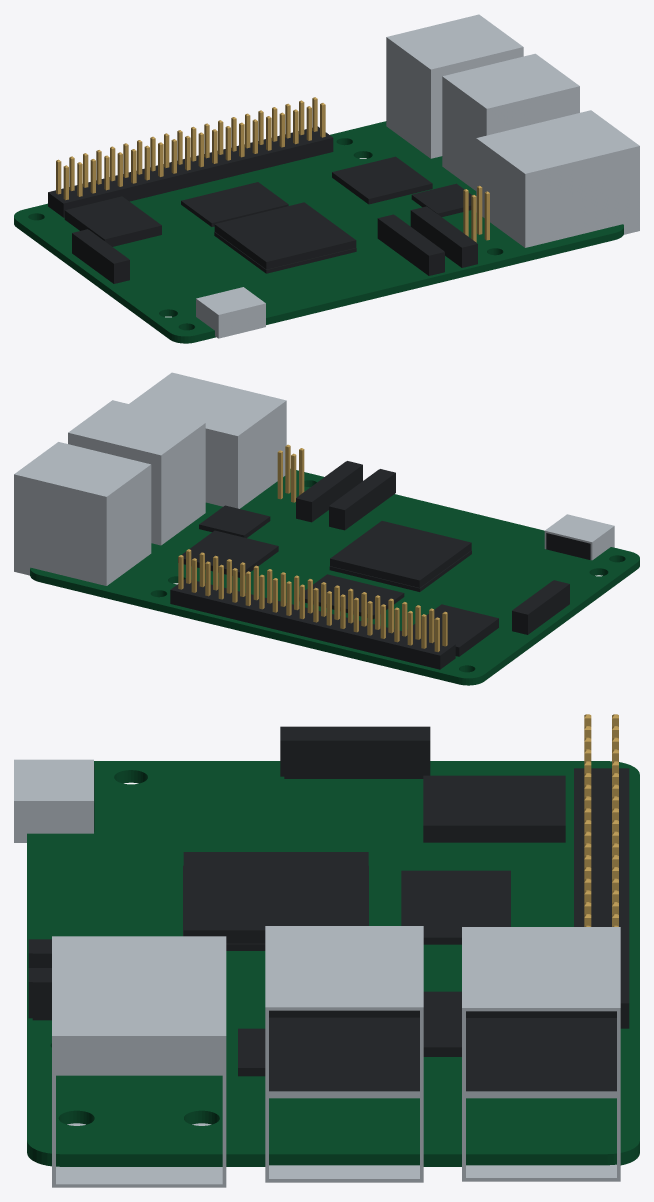
Rendered from raspberry_pi_5_4gb.glb.
The picture shows the model from 3 angles, top to bottom: view 1: azimuth 30°, elevation 25°; view 2: azimuth 150°, elevation 25°; view 3: azimuth 270°, elevation 25°; orthographic projection. The views are drawn at different scales.
Parts seen in each view (by area): view 1: part_raspberry_pi_5_4gb__steel, part_raspberry_pi_5_4gb__pcb, part_raspberry_pi_5_4gb__black_polymer, part_raspberry_pi_5_4gb__brass; view 2: part_raspberry_pi_5_4gb__steel, part_raspberry_pi_5_4gb__pcb, part_raspberry_pi_5_4gb__black_polymer, part_raspberry_pi_5_4gb__brass; view 3: part_raspberry_pi_5_4gb__pcb, part_raspberry_pi_5_4gb__steel, part_raspberry_pi_5_4gb__black_polymer, part_raspberry_pi_5_4gb__brass.
Part boxes in pixels (x1,y1,x2,y2): part_raspberry_pi_5_4gb__steel: (196, 14, 639, 338); part_raspberry_pi_5_4gb__pcb: (14, 121, 623, 343); part_raspberry_pi_5_4gb__black_polymer: (48, 126, 477, 283); part_raspberry_pi_5_4gb__brass: (56, 97, 489, 242); part_raspberry_pi_5_4gb__steel: (14, 372, 614, 585); part_raspberry_pi_5_4gb__pcb: (30, 469, 639, 685); part_raspberry_pi_5_4gb__black_polymer: (170, 461, 590, 669); part_raspberry_pi_5_4gb__brass: (178, 444, 447, 651); part_raspberry_pi_5_4gb__pcb: (27, 761, 639, 1166); part_raspberry_pi_5_4gb__steel: (14, 759, 620, 1187); part_raspberry_pi_5_4gb__black_polymer: (28, 726, 629, 1076); part_raspberry_pi_5_4gb__brass: (584, 714, 618, 926).
Bounding box in the file's own units: 0.0881 × 0.0189 × 0.0572.
